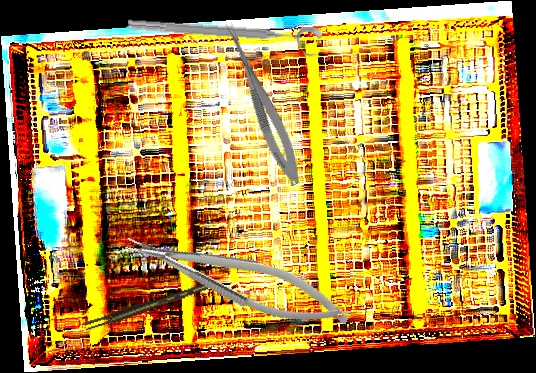Fixation Ring: (126, 14, 323, 59)
Micro Scissor: (214, 19, 309, 189)
Needle Holder: (119, 213, 357, 344)
Tissue Forceps: (83, 283, 210, 331)
